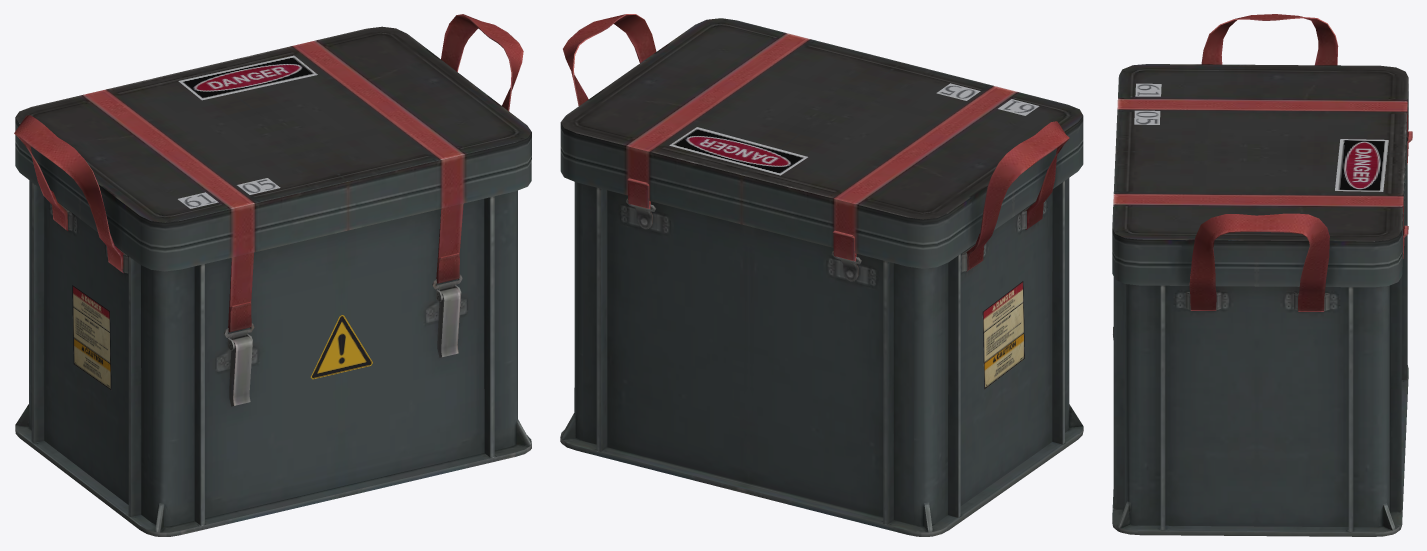
Rendered from biohazard_box.glb.
The picture shows the model from 3 angles, left to right: view 1: azimuth 30°, elevation 25°; view 2: azimuth 150°, elevation 25°; view 3: azimuth 270°, elevation 25°; orthographic projection. The views are drawn at different scales.
Visible parts, largest first — view 1: lab_stuff_PlasticBox_03_LOD0_Material #155_0, Object001_Material #156_0; view 2: lab_stuff_PlasticBox_03_LOD0_Material #155_0, Object001_Material #156_0; view 3: lab_stuff_PlasticBox_03_LOD0_Material #155_0, Object001_Material #156_0.
Boxes of the visible parts, left/top/right/bottom form: lab_stuff_PlasticBox_03_LOD0_Material #155_0: left=14, top=14, right=531, bottom=536; Object001_Material #156_0: left=72, top=55, right=372, bottom=390; lab_stuff_PlasticBox_03_LOD0_Material #155_0: left=560, top=14, right=1083, bottom=536; Object001_Material #156_0: left=669, top=83, right=1039, bottom=389; lab_stuff_PlasticBox_03_LOD0_Material #155_0: left=1112, top=14, right=1412, bottom=536; Object001_Material #156_0: left=1134, top=83, right=1388, bottom=191.
Bounding box in the file's own units: 0.5367 × 0.384 × 0.3138.
2 materials, 2 textured.
